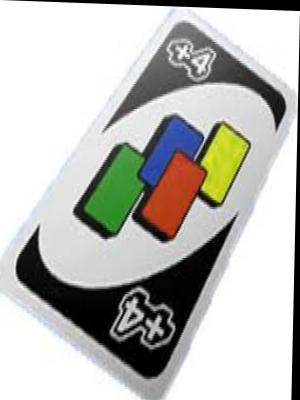wild-4: (47, 94, 283, 263), (101, 270, 189, 363), (158, 24, 222, 90)
